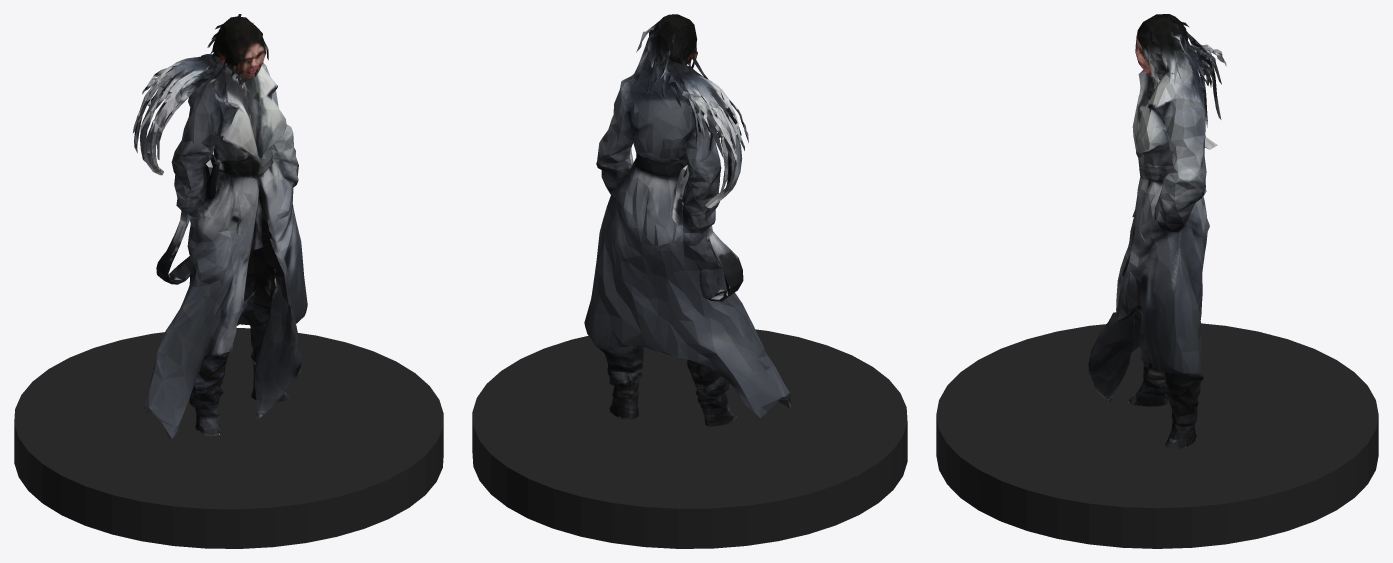
The model's file is annaleigh-chan.glb.
The picture shows the model from 3 angles, left to right: view 1: azimuth 30°, elevation 25°; view 2: azimuth 150°, elevation 25°; view 3: azimuth 270°, elevation 25°; orthographic projection. The views are drawn at different scales.
Parts seen in each view (by area): view 1: base, figure; view 2: base, figure; view 3: base, figure.
Boxes of the visible parts, bbox=[...] form: base: bbox=[14, 328, 443, 548]; figure: bbox=[133, 14, 307, 439]; base: bbox=[472, 329, 907, 548]; figure: bbox=[584, 14, 791, 426]; base: bbox=[936, 323, 1378, 548]; figure: bbox=[1088, 14, 1226, 449].
Size of the model in its own units: 1.18 by 1.32 by 1.18.
Materials: 2 (1 with a texture image).
